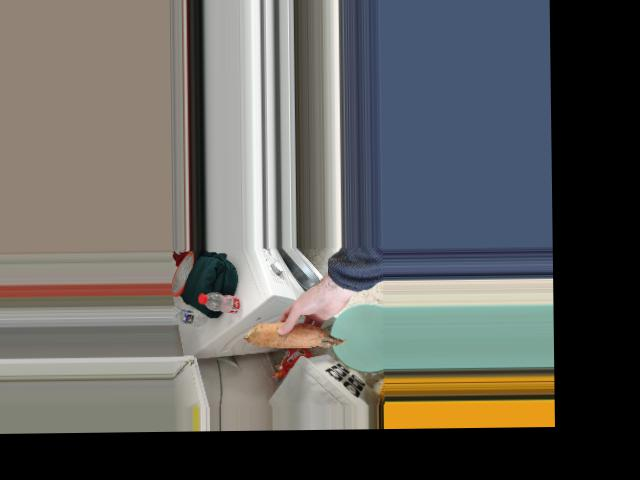sweet_potato: (251, 315, 346, 350)
